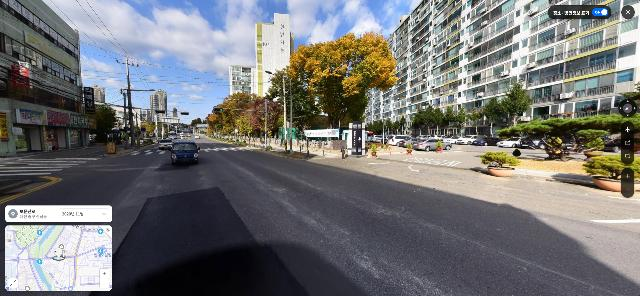ginkgo: (284, 27, 399, 130)
other: (497, 113, 639, 161), (264, 70, 316, 140), (499, 81, 531, 131), (226, 92, 253, 138), (245, 96, 269, 140), (90, 105, 116, 144), (481, 95, 502, 136), (413, 104, 436, 138), (452, 105, 470, 135), (216, 98, 230, 136), (205, 106, 220, 136), (135, 114, 148, 146), (432, 109, 446, 138), (444, 105, 456, 137), (369, 118, 384, 135), (396, 116, 409, 135), (388, 118, 397, 135), (148, 123, 156, 142), (195, 116, 202, 135), (382, 116, 388, 136), (201, 116, 207, 135), (190, 118, 196, 135)
